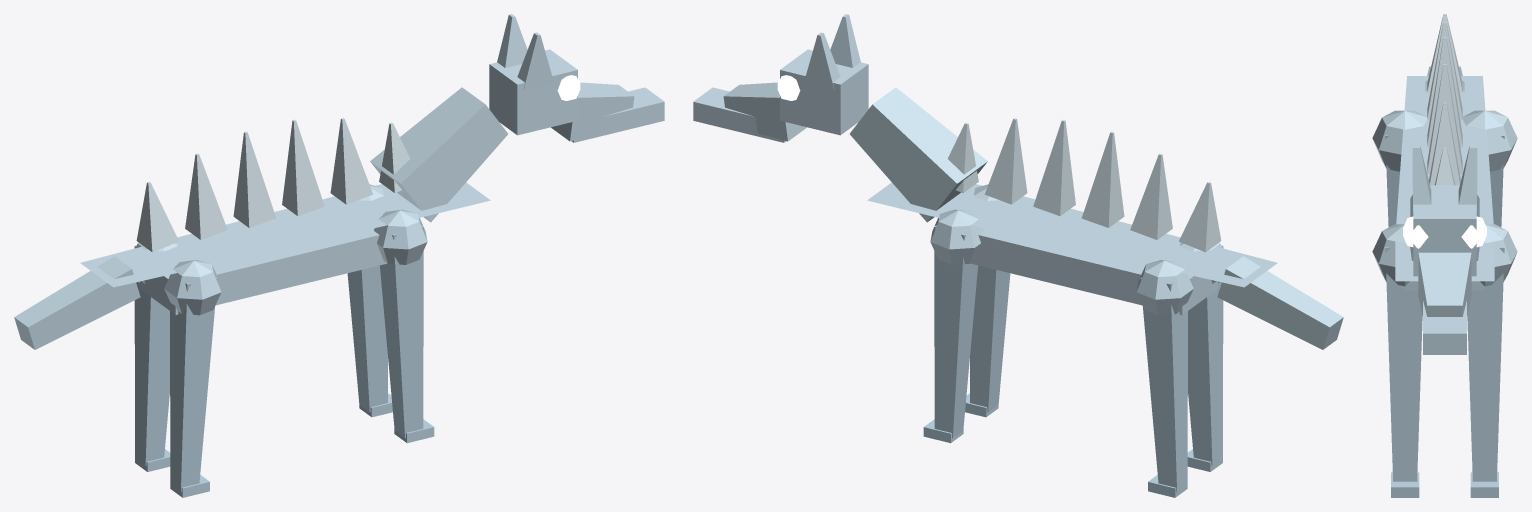
Rendered from stalker.glb.
3 renders of one model, left to right at view 1: azimuth 30°, elevation 25°; view 2: azimuth 150°, elevation 25°; view 3: azimuth 270°, elevation 25°, orthographic. The views are drawn at different scales.
Visible parts, largest first — view 1: body, spikes, head, legBR, legFR, legBL, tail0, legFL, jaw, ear_-1, ear_1; view 2: body, spikes, head, legBL, legFL, legBR, tail0, legFR, jaw, ear_1, ear_-1; view 3: body, head, legFL, legFR, spikes, jaw, eye, ear_-1, ear_1, legBL, legBR.
Boxes of the visible parts, left/top/right/bottom form: body: left=80, top=87, right=507, bottom=315; spikes: left=136, top=118, right=410, bottom=252; head: left=489, top=49, right=634, bottom=141; legBR: left=170, top=277, right=217, bottom=497; legFR: left=380, top=225, right=434, bottom=443; legBL: left=134, top=245, right=170, bottom=471; tail0: left=14, top=256, right=140, bottom=349; legFL: left=347, top=265, right=392, bottom=417; jaw: left=571, top=87, right=664, bottom=142; ear_-1: left=517, top=32, right=553, bottom=89; ear_1: left=497, top=14, right=527, bottom=67; body: left=850, top=87, right=1277, bottom=315; spikes: left=947, top=118, right=1221, bottom=252; head: left=723, top=49, right=868, bottom=141; legBL: left=1140, top=277, right=1187, bottom=497; legFL: left=923, top=225, right=977, bottom=443; legBR: left=1187, top=245, right=1223, bottom=471; tail0: left=1217, top=256, right=1343, bottom=349; legFR: left=965, top=265, right=1010, bottom=417; jaw: left=693, top=87, right=786, bottom=142; ear_1: left=804, top=32, right=840, bottom=89; ear_-1: left=830, top=14, right=860, bottom=67; body: left=1372, top=76, right=1517, bottom=290; head: left=1413, top=185, right=1476, bottom=316; legFL: left=1467, top=247, right=1504, bottom=497; legFR: left=1385, top=247, right=1422, bottom=497; spikes: left=1427, top=14, right=1462, bottom=185; jaw: left=1423, top=301, right=1466, bottom=354; eye: left=1403, top=216, right=1486, bottom=248; ear_-1: left=1412, top=146, right=1431, bottom=212; ear_1: left=1458, top=146, right=1477, bottom=212; legBL: left=1490, top=135, right=1504, bottom=227; legBR: left=1385, top=135, right=1399, bottom=227.
Bounding box in the file's own units: 2.09 × 1.15 × 0.3673.
